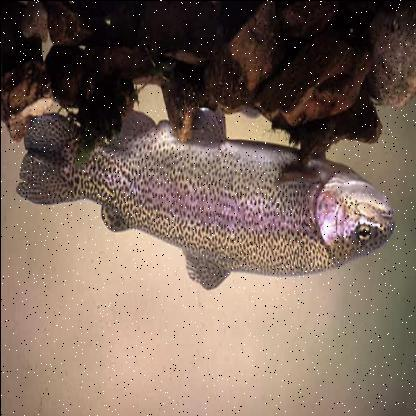fish: (15, 102, 395, 292)
